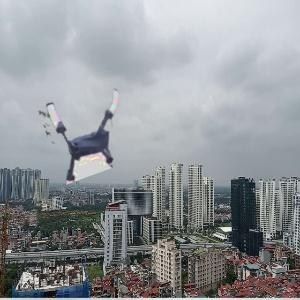drone: (48, 87, 136, 175)
